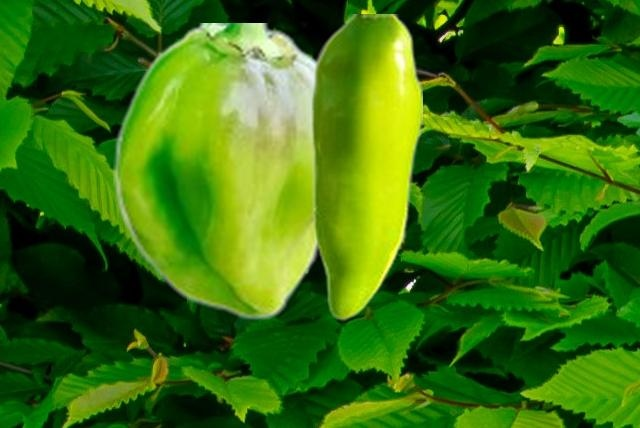green_chili: (113, 23, 319, 320), (310, 14, 421, 320)
